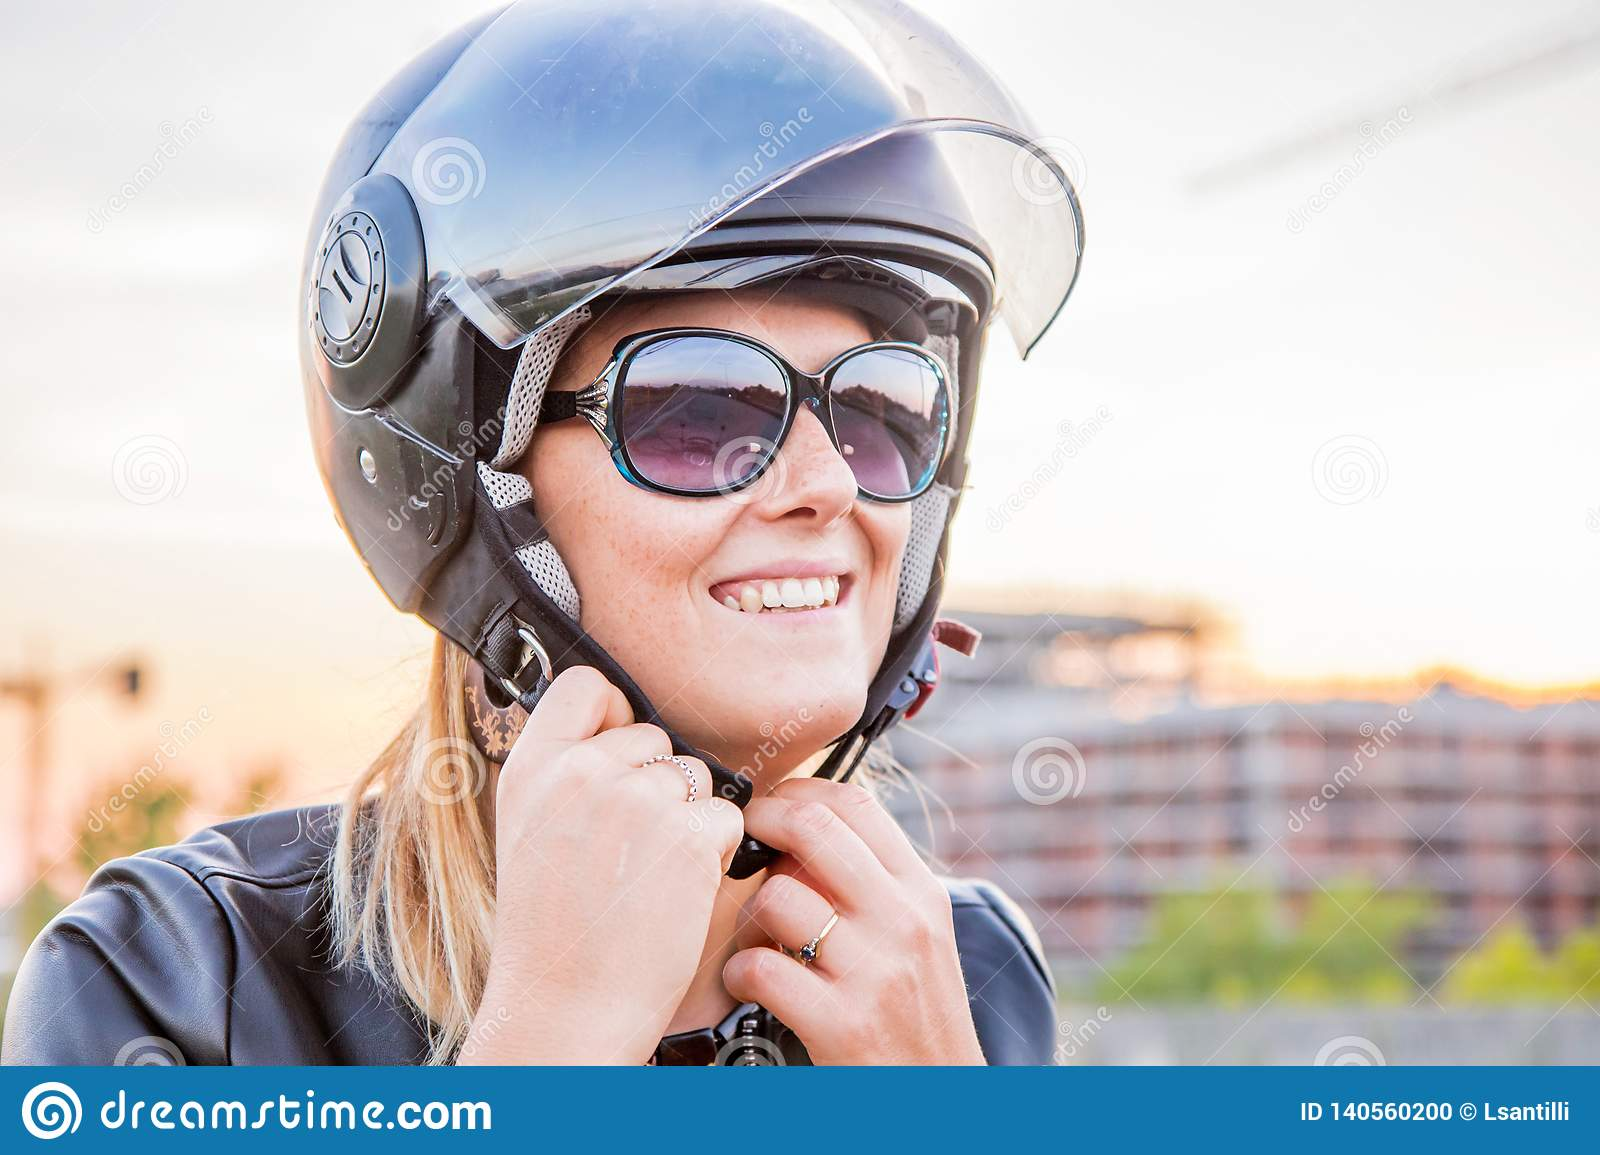helmet: (260, 2, 1043, 638)
